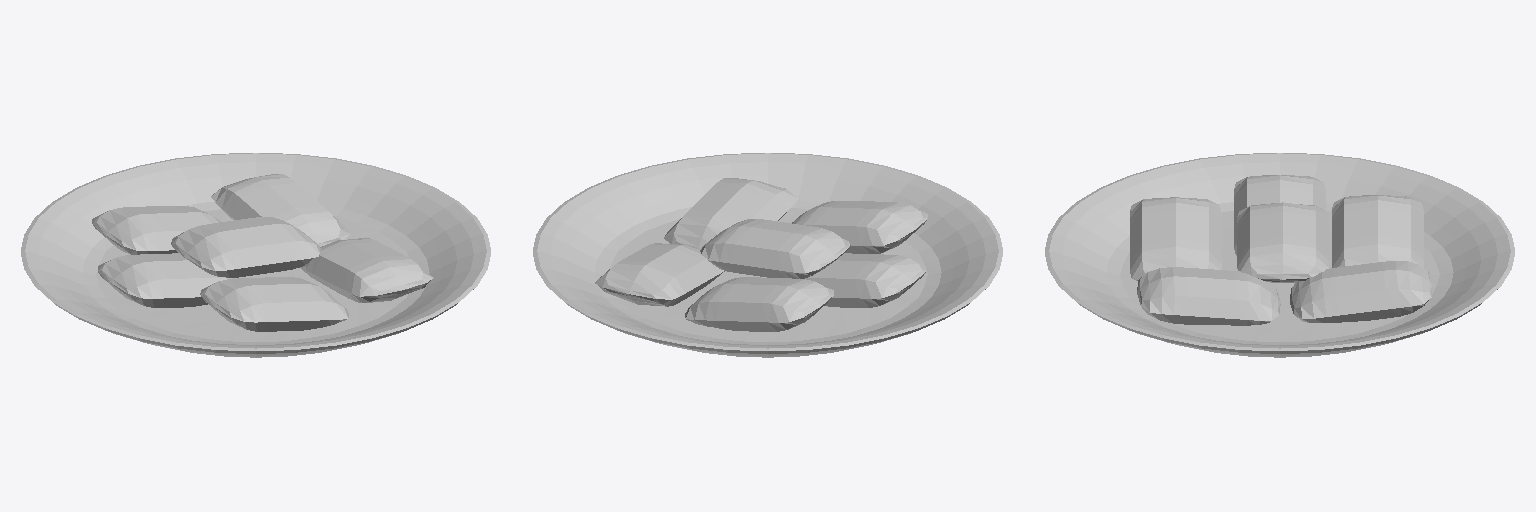
File: kue bantal pisang.obj
The picture shows the model from 3 angles: view 1: azimuth 30°, elevation 25°; view 2: azimuth 150°, elevation 25°; view 3: azimuth 270°, elevation 25°; orthographic projection.
Parts seen in each view (by area): view 1: Cylinder, Cube.005, Cube.002, Cube.004, Cube.003, Cube, Cube.001; view 2: Cylinder, Cube.005, Cube.001, Cube.003, Cube.004, Cube.002, Cube; view 3: Cylinder, Cube.004, Cube.003, Cube.005, Cube.002, Cube.001, Cube.
Boxes of the visible parts, box(x1,y1,x2,y2) form: Cylinder: box(21, 153, 490, 357); Cube.005: box(171, 217, 320, 277); Cube.002: box(200, 277, 348, 331); Cube.004: box(300, 238, 433, 302); Cube.003: box(211, 174, 349, 246); Cube: box(98, 253, 235, 307); Cube.001: box(92, 206, 220, 254); Cylinder: box(533, 153, 1002, 357); Cube.005: box(700, 219, 849, 278); Cube.001: box(685, 277, 833, 331); Cube.003: box(595, 243, 724, 306); Cube.004: box(664, 178, 797, 249); Cube.002: box(792, 201, 927, 253); Cube: box(805, 253, 925, 307); Cylinder: box(1045, 153, 1514, 357); Cube.004: box(1137, 267, 1280, 325); Cube.003: box(1290, 261, 1432, 322); Cube.005: box(1237, 202, 1328, 282); Cube.002: box(1130, 197, 1221, 280); Cube.001: box(1332, 195, 1423, 267); Cube: box(1234, 175, 1325, 255).
Bounding box in the file's own units: 2.31 × 0.3398 × 2.31.